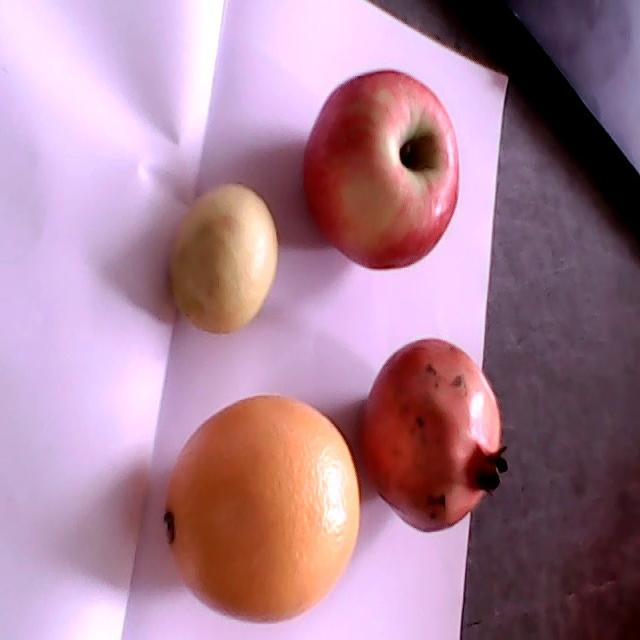apple: (300, 68, 459, 273)
lemon: (169, 183, 277, 332)
orange: (165, 396, 358, 624)
pomegranate: (362, 336, 508, 531)
